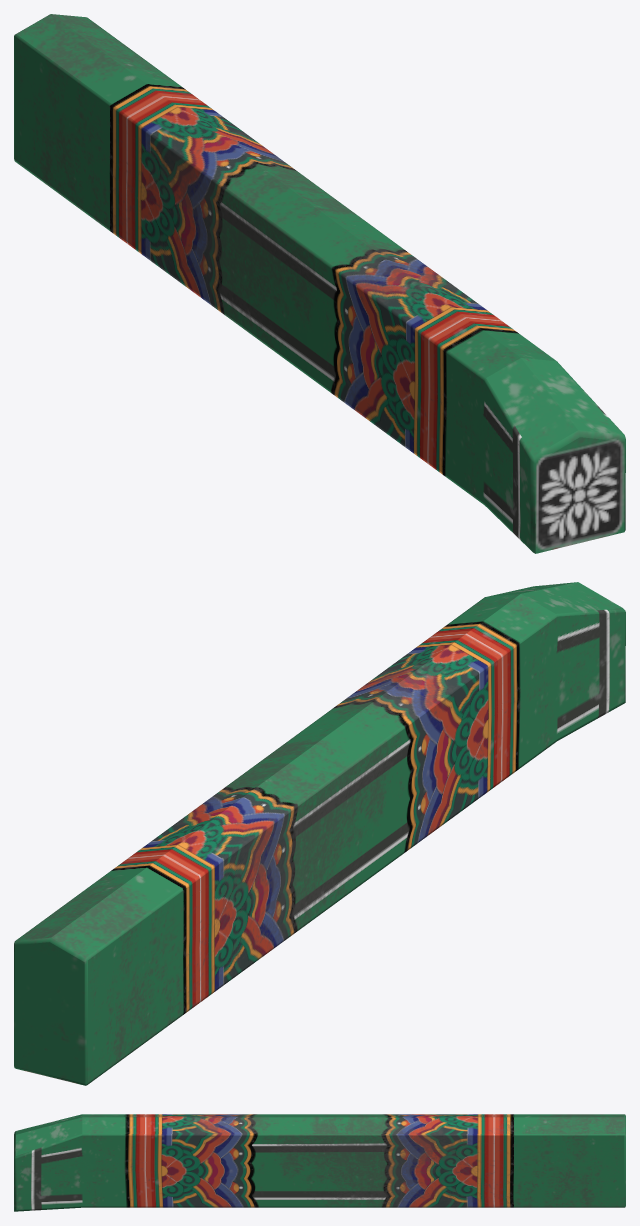
Rendered from SM_Toetbo01a.fbx.
3 renders of one model, top to bottom at view 1: azimuth 30°, elevation 25°; view 2: azimuth 150°, elevation 25°; view 3: azimuth 270°, elevation 25°, orthographic. The views are drawn at different scales.
Visible parts, largest first — view 1: SM_Toetbo01a; view 2: SM_Toetbo01a; view 3: SM_Toetbo01a.
Part boxes in pixels (x1=…): SM_Toetbo01a: x1=14, y1=14, x2=625, y2=553; SM_Toetbo01a: x1=14, y1=582, x2=625, y2=1085; SM_Toetbo01a: x1=14, y1=1114, x2=625, y2=1211.
Bounding box in the file's own units: 23.25 × 225 × 33.23.
1 material, 1 textured.
